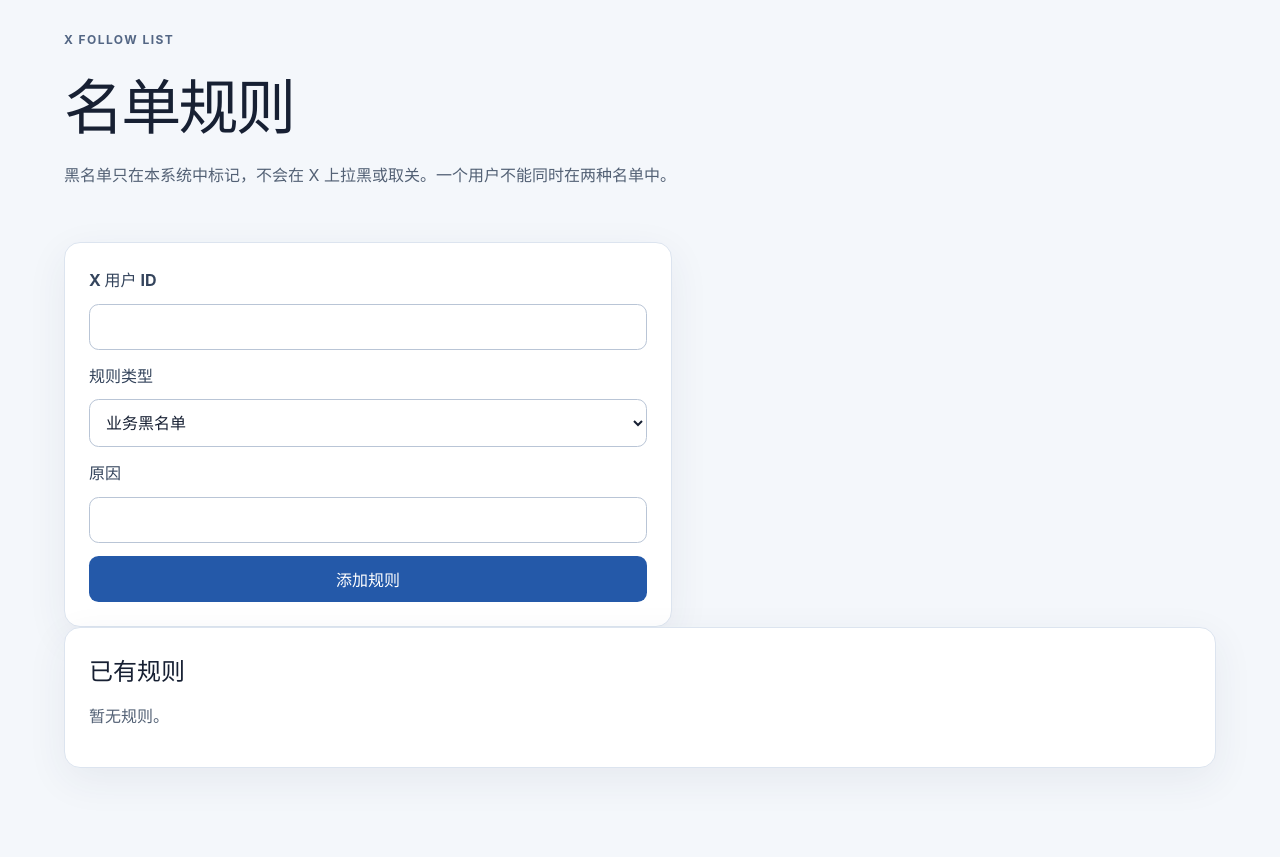
Test: business blocklist management › adds a reasoned rule and explains when a first scan is required
This screenshot has width=1280, height=857.
Type "42" into the field labelled "X 用户 ID". click: (368, 327)
box: [89,304,647,350]
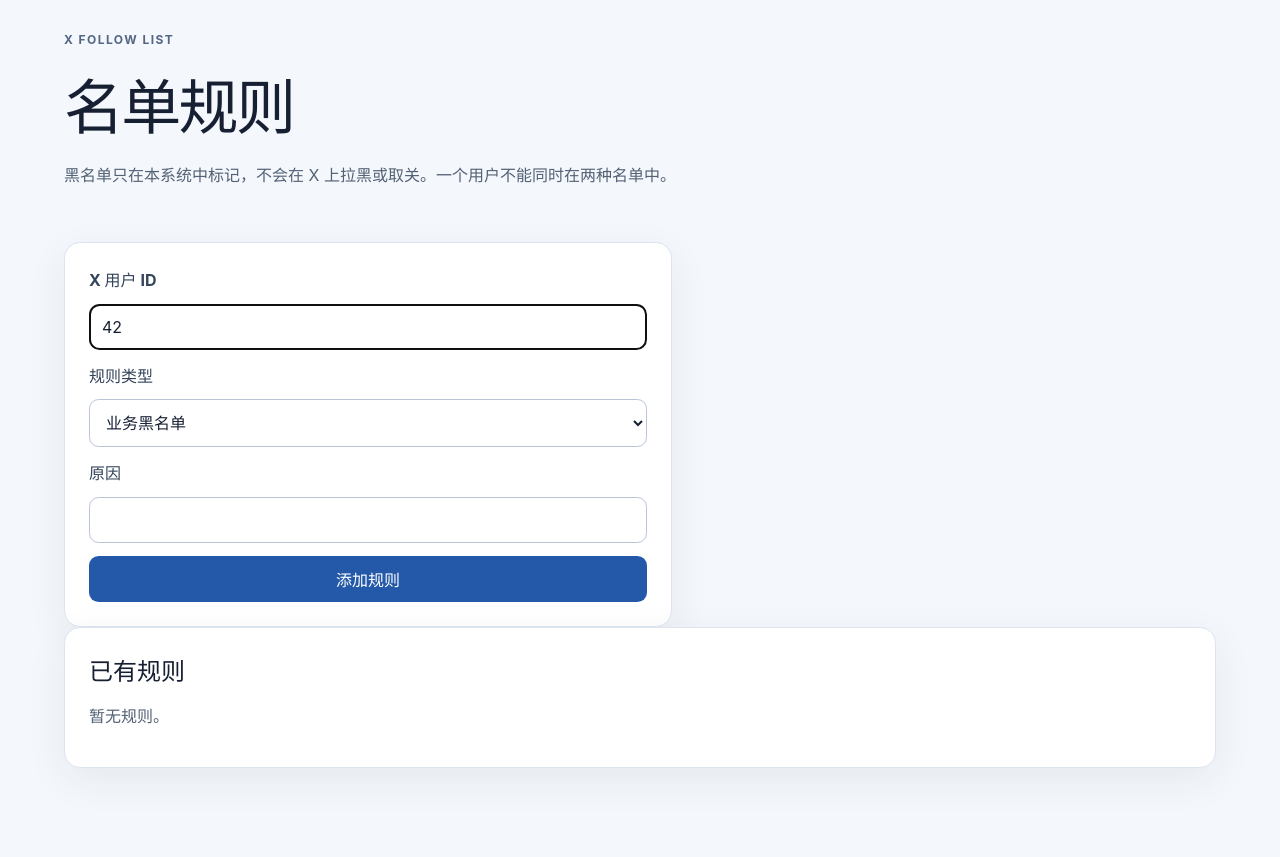
Type "Supplier risk" into the field labelled "原因". click: (368, 520)
box: [89,497,647,543]
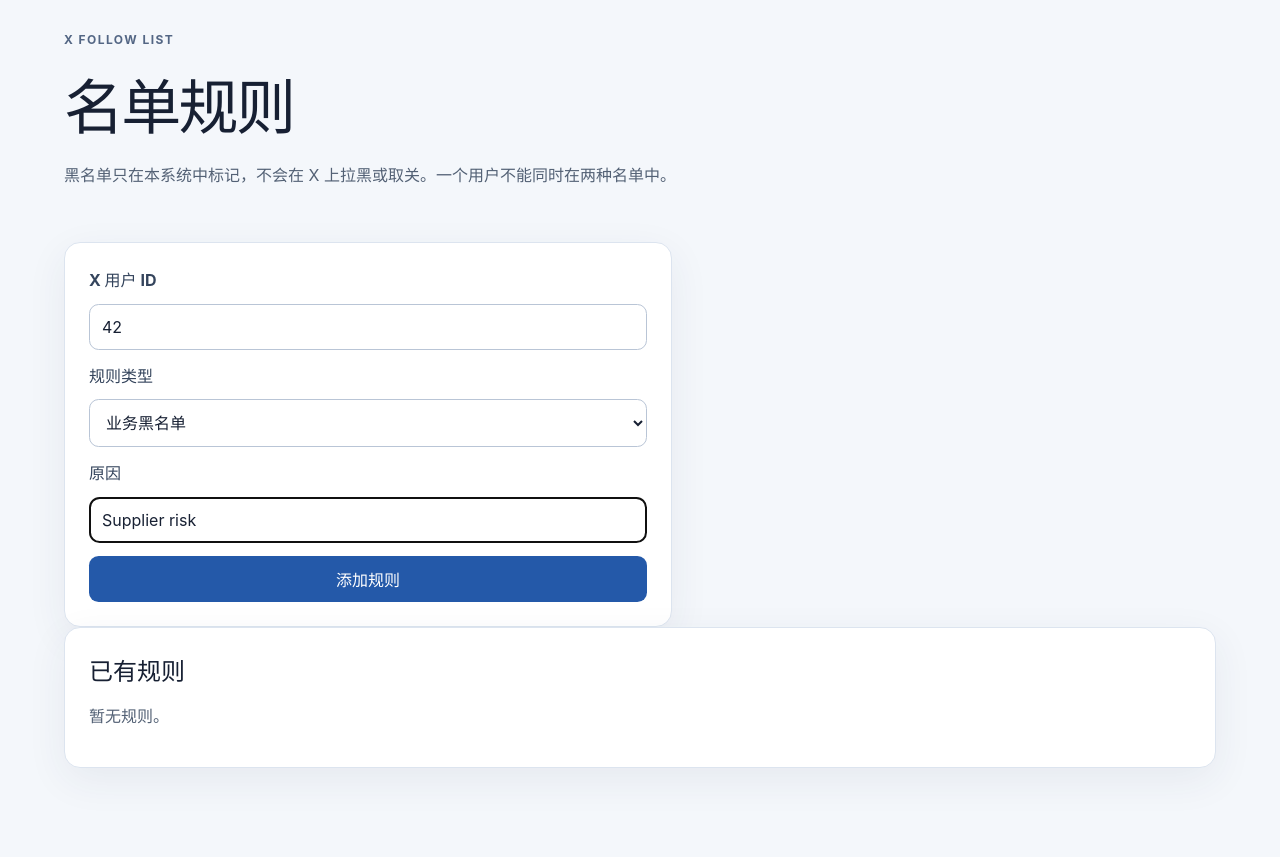
Click the button "添加规则". click: (368, 579)
box: [89,556,647,602]
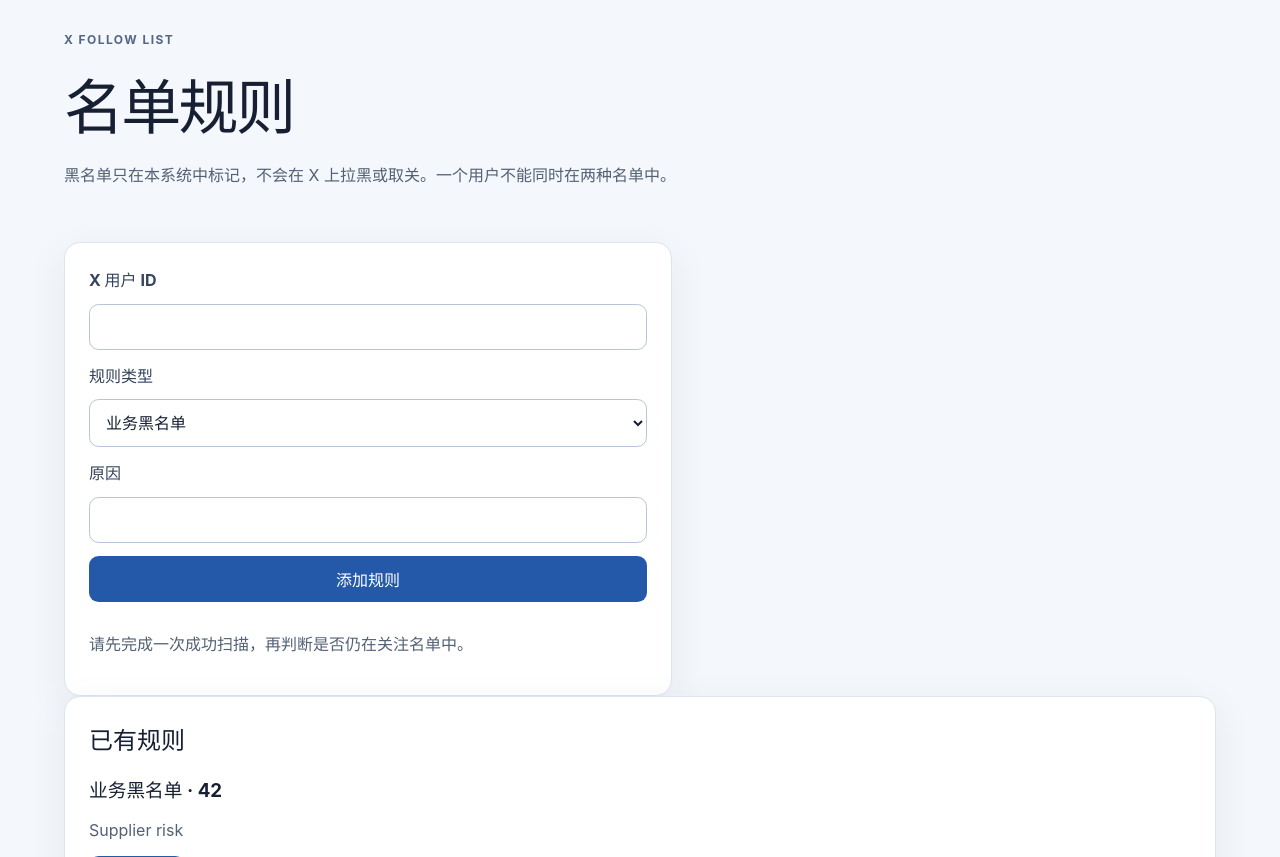
Expected: the text "请先完成一次成功扫描，再判断是否仍在关注名单中。" is shown, [89,634,473,654]
Expected: the text "Supplier risk" is shown, [89,820,183,840]
